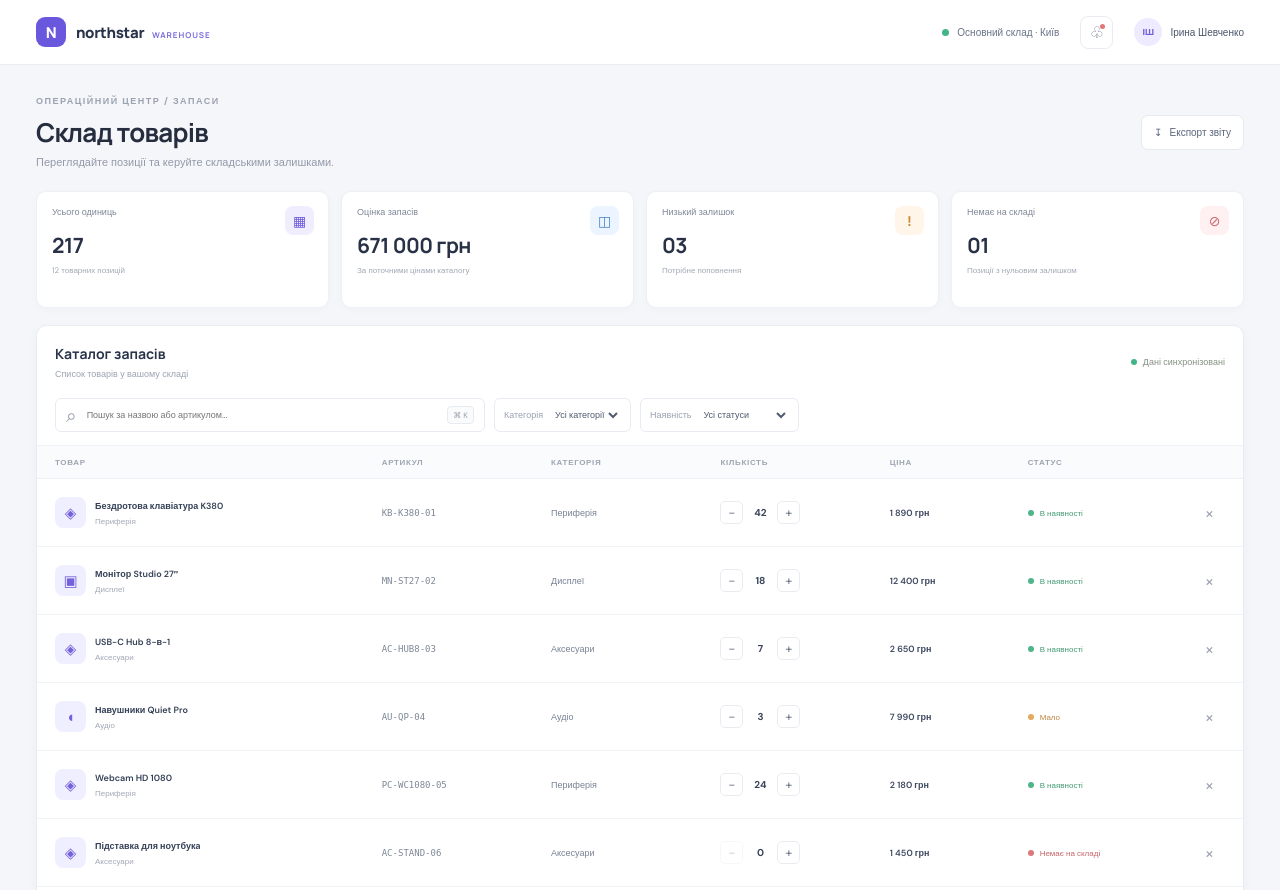
Scenario: warehouse inventory workflow › deletes a product through the mocked API
Expected: the text "Навушники Quiet Pro" is shown, [95,704,188,716]
Click the button named "Видалити Навушники Quiet Pro": (1210, 716) [1197,704,1222,729]
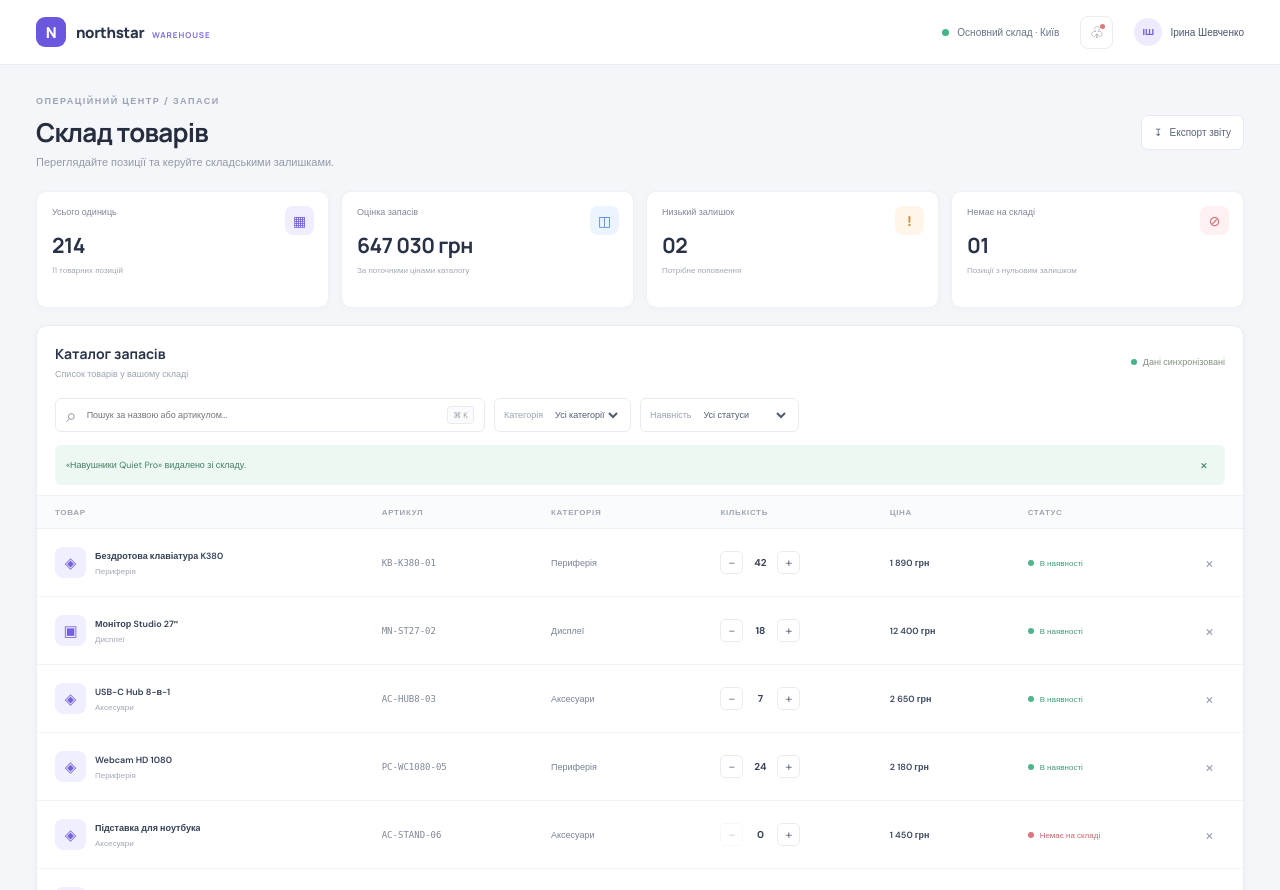
Expected: the message shows "видалено зі складу", [66,459,246,471]
